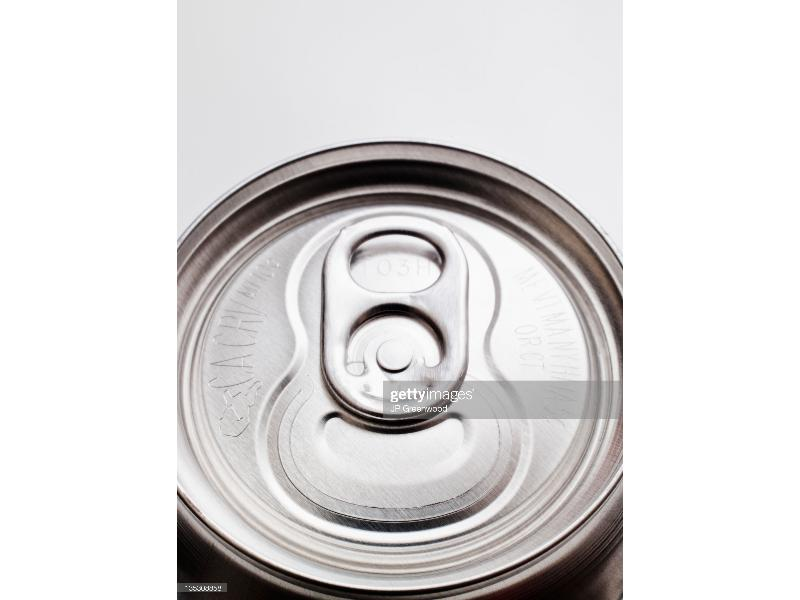can: (178, 132, 622, 597)
